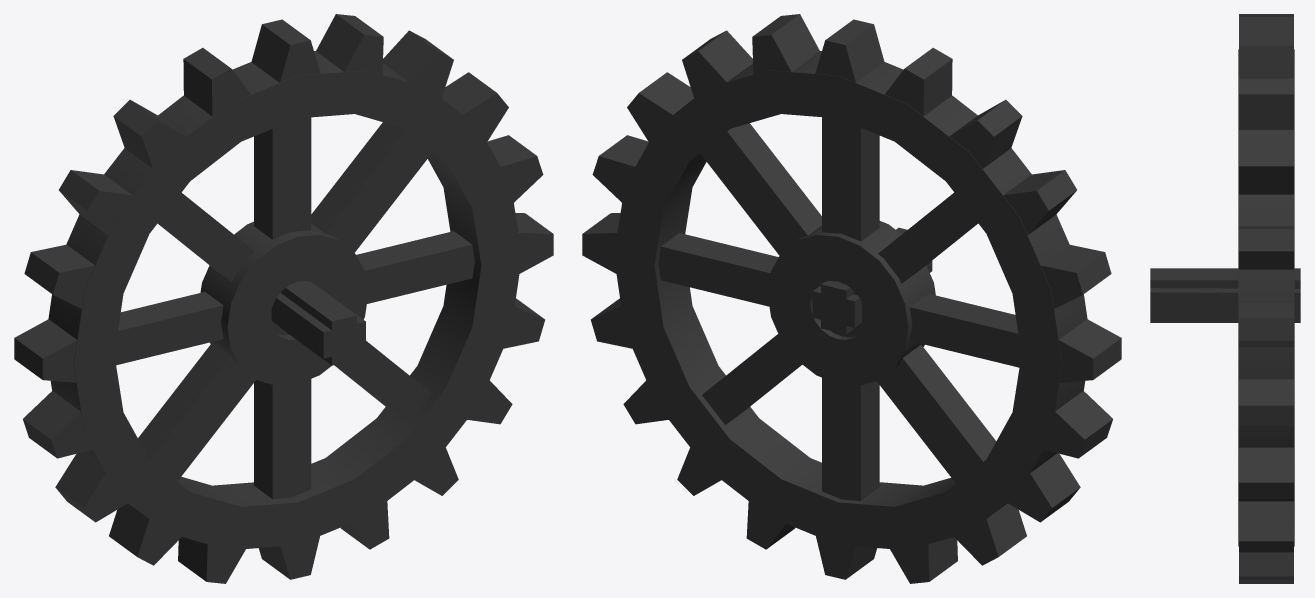
The model's file is gear3_geo.obj.
3 renders of one model, left to right at view 1: azimuth 30°, elevation 25°; view 2: azimuth 150°, elevation 25°; view 3: azimuth 270°, elevation 25°, orthographic. The views are drawn at different scales.
Visible parts, largest first — view 1: gear3_geo; view 2: gear3_geo; view 3: gear3_geo.
Boxes of the visible parts, x1,y1,x2,y2 form: gear3_geo: [14, 14, 553, 583]; gear3_geo: [582, 14, 1121, 583]; gear3_geo: [1150, 14, 1300, 583].
Size of the model in its own units: 0.5119 by 0.5119 by 0.1347.
